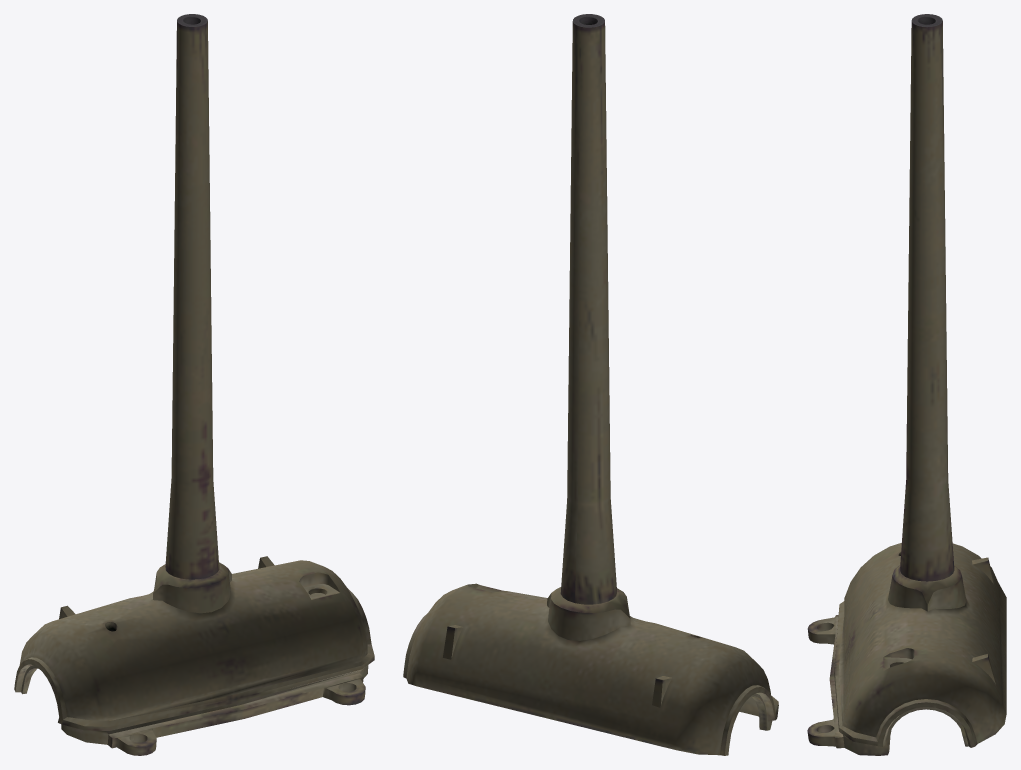
Rendered from Gun_01.glb.
The picture shows the model from 3 angles, left to right: view 1: azimuth 30°, elevation 25°; view 2: azimuth 150°, elevation 25°; view 3: azimuth 270°, elevation 25°; orthographic projection. The views are drawn at different scales.
Parts seen in each view (by area): view 1: set_0_group_0; view 2: set_0_group_0; view 3: set_0_group_0.
Part boxes in pixels (bbox=[...]): set_0_group_0: bbox=[14, 14, 374, 755]; set_0_group_0: bbox=[403, 14, 778, 755]; set_0_group_0: bbox=[807, 14, 1006, 755].
Bounding box in the file's own units: 1.55 × 3.16 × 0.852.
1 material, 1 textured.
